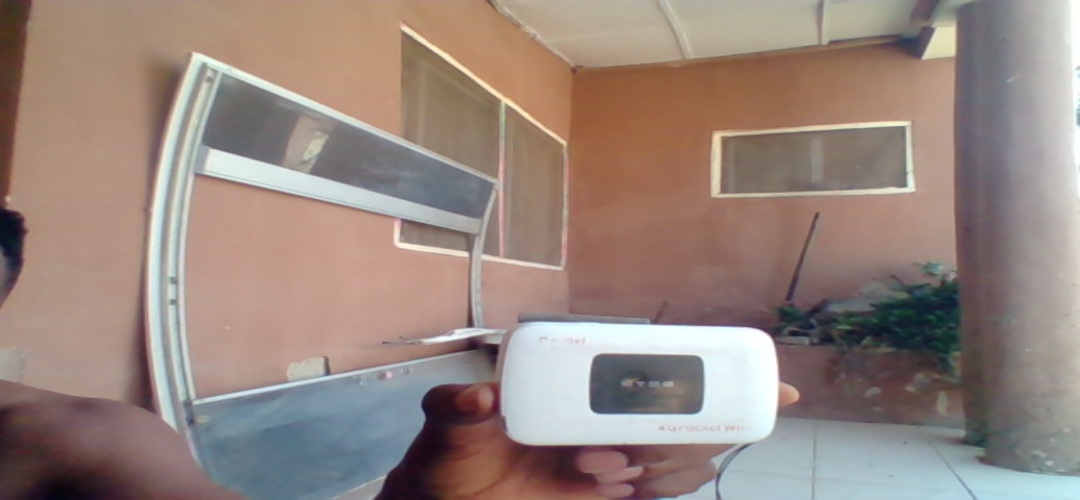mifi: (499, 321, 779, 447)
